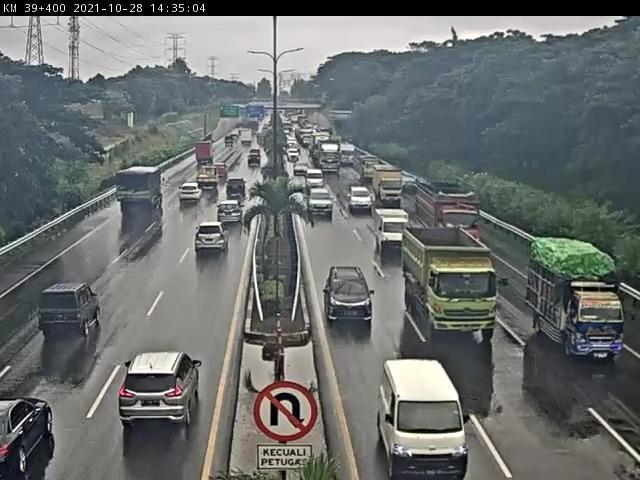car: (379, 359, 477, 480), (114, 336, 213, 434), (1, 395, 63, 479), (34, 275, 102, 343), (319, 262, 377, 333), (370, 211, 417, 257), (186, 216, 229, 262), (303, 188, 343, 223), (212, 204, 247, 231), (349, 179, 377, 212), (180, 179, 200, 208), (227, 176, 252, 199), (304, 168, 330, 186), (402, 169, 420, 193), (247, 150, 264, 169)
truck: (523, 238, 636, 361), (403, 233, 501, 341), (114, 162, 165, 232), (427, 179, 484, 241), (376, 164, 407, 208), (193, 143, 217, 167), (200, 172, 224, 195)
